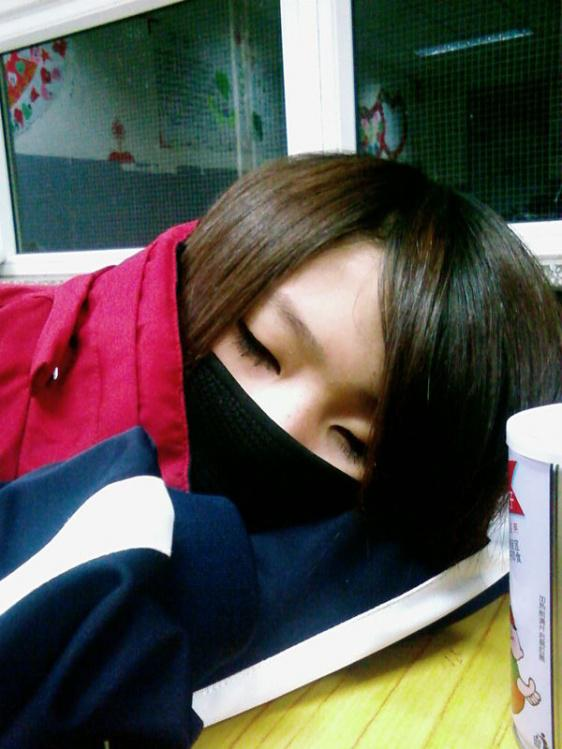OK: (171, 306, 404, 541)
